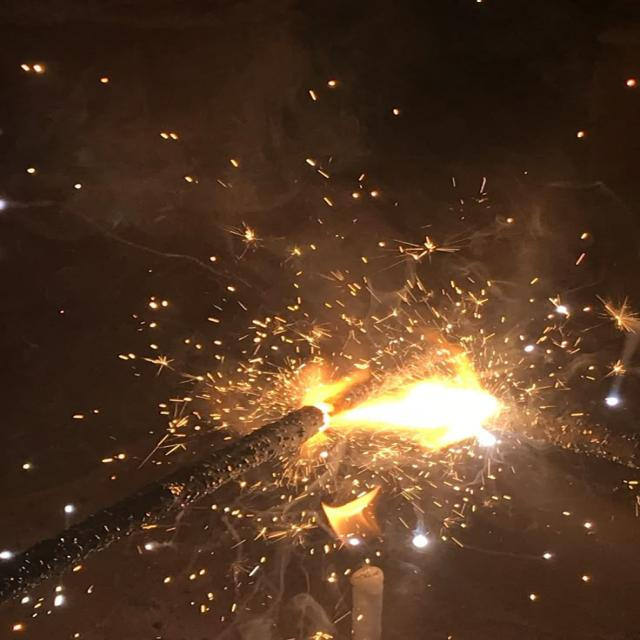fire: (304, 351, 504, 447), (322, 486, 378, 545)
